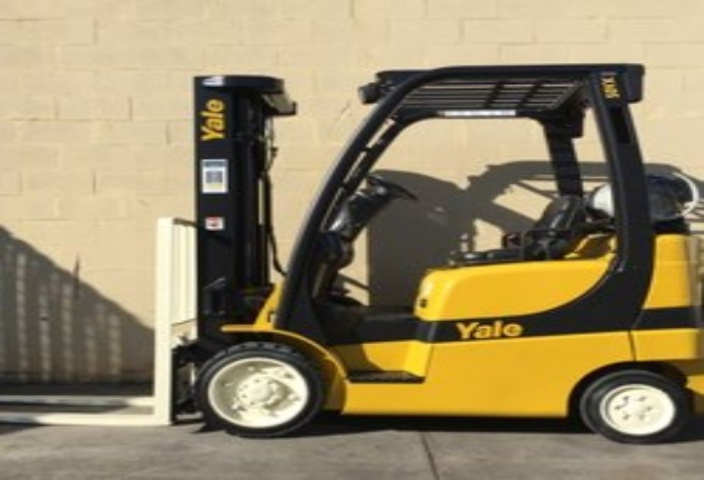industrial: (69, 44, 704, 459)
